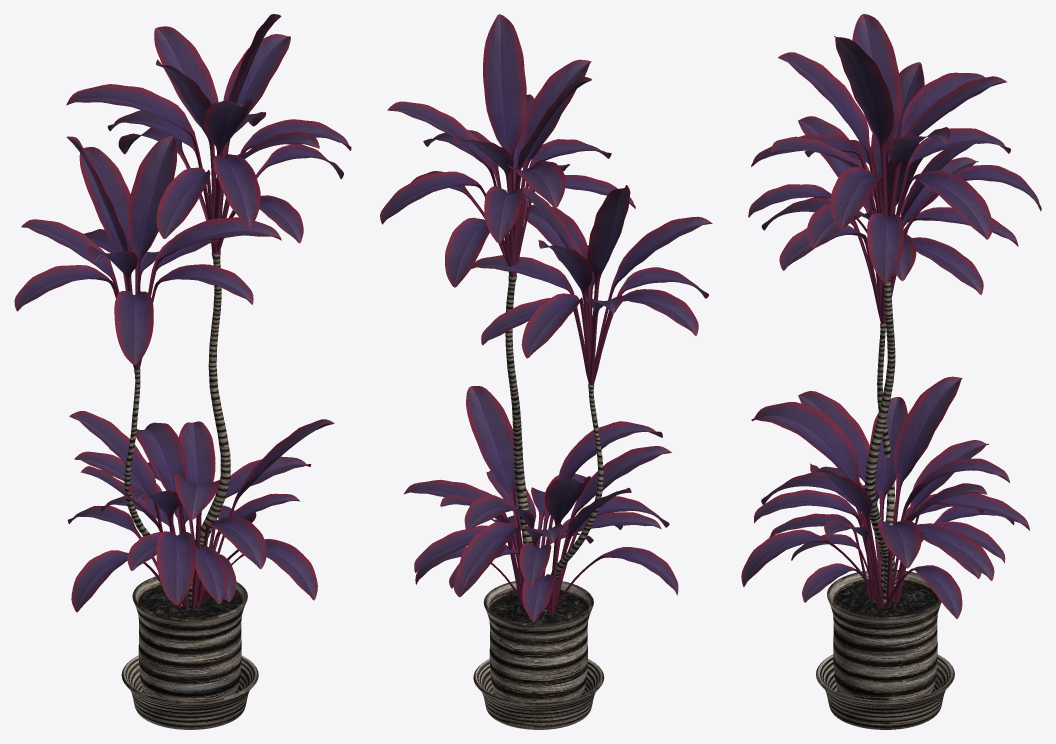
The model's file is purple.obj.
3 renders of one model, left to right at view 1: azimuth 30°, elevation 25°; view 2: azimuth 150°, elevation 25°; view 3: azimuth 270°, elevation 25°, orthographic. The views are drawn at different scales.
Visible parts, largest first — view 1: cgaxis_plants_13_01, cgaxis_plants_13_04, cgaxis_plants_13_02, cgaxis_plants_13_03; view 2: cgaxis_plants_13_01, cgaxis_plants_13_04, cgaxis_plants_13_02, cgaxis_plants_13_03; view 3: cgaxis_plants_13_01, cgaxis_plants_13_04, cgaxis_plants_13_02, cgaxis_plants_13_03.
Boxes of the visible parts, box(x1,y1,x2,y2) form: cgaxis_plants_13_01: box(14, 14, 351, 612); cgaxis_plants_13_04: box(121, 576, 258, 729); cgaxis_plants_13_02: box(124, 253, 230, 605); cgaxis_plants_13_03: box(139, 587, 240, 618); cgaxis_plants_13_01: box(380, 14, 712, 621); cgaxis_plants_13_04: box(473, 581, 604, 729); cgaxis_plants_13_02: box(505, 275, 603, 611); cgaxis_plants_13_03: box(490, 592, 587, 623); cgaxis_plants_13_01: box(741, 14, 1041, 618); cgaxis_plants_13_04: box(816, 570, 954, 729); cgaxis_plants_13_02: box(864, 279, 896, 603); cgaxis_plants_13_03: box(834, 582, 936, 616).
Size of the model in its own units: 2.46 by 5.1 by 1.97.
Materials: 4 (4 with a texture image).
